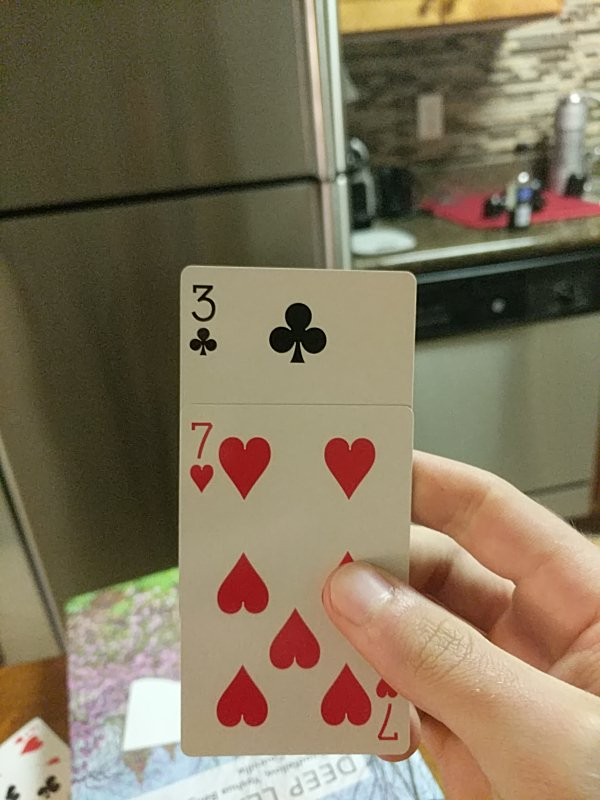Clubs: (180, 266, 415, 407)
Hearts: (179, 408, 412, 754)
